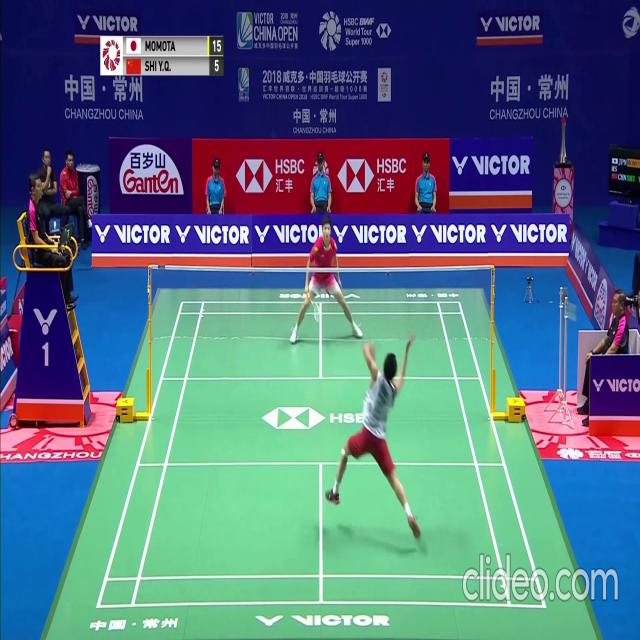Shuttlecock: (399, 233, 404, 241)
